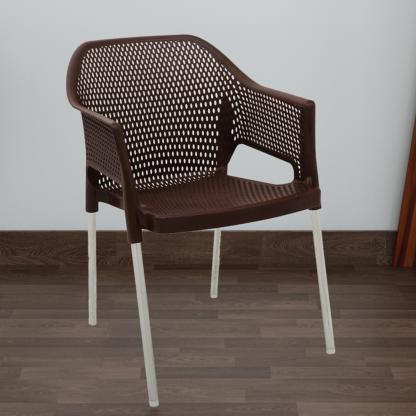chair: (67, 30, 342, 416)
